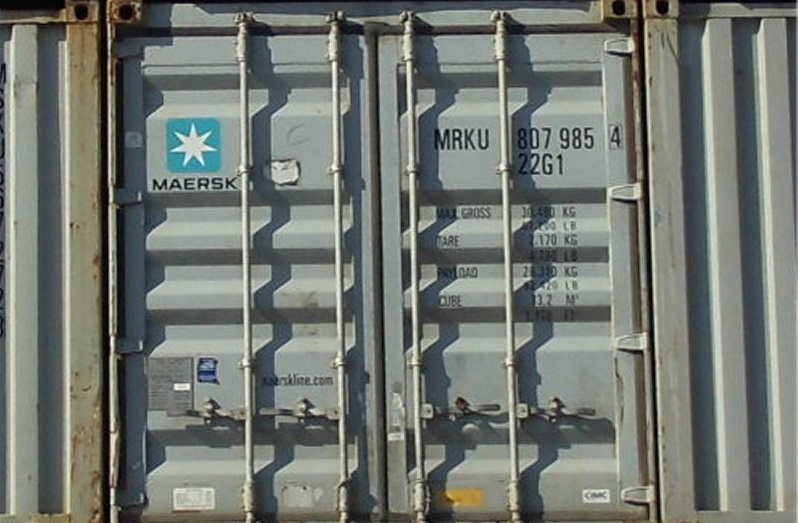container_door: (106, 1, 656, 517)
